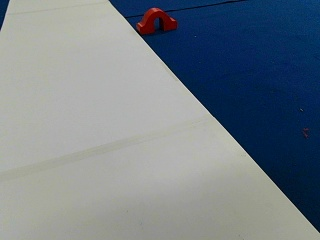bridge: (137, 8, 176, 32)
